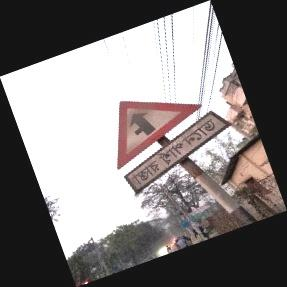Side-road-right: (113, 99, 230, 192)
